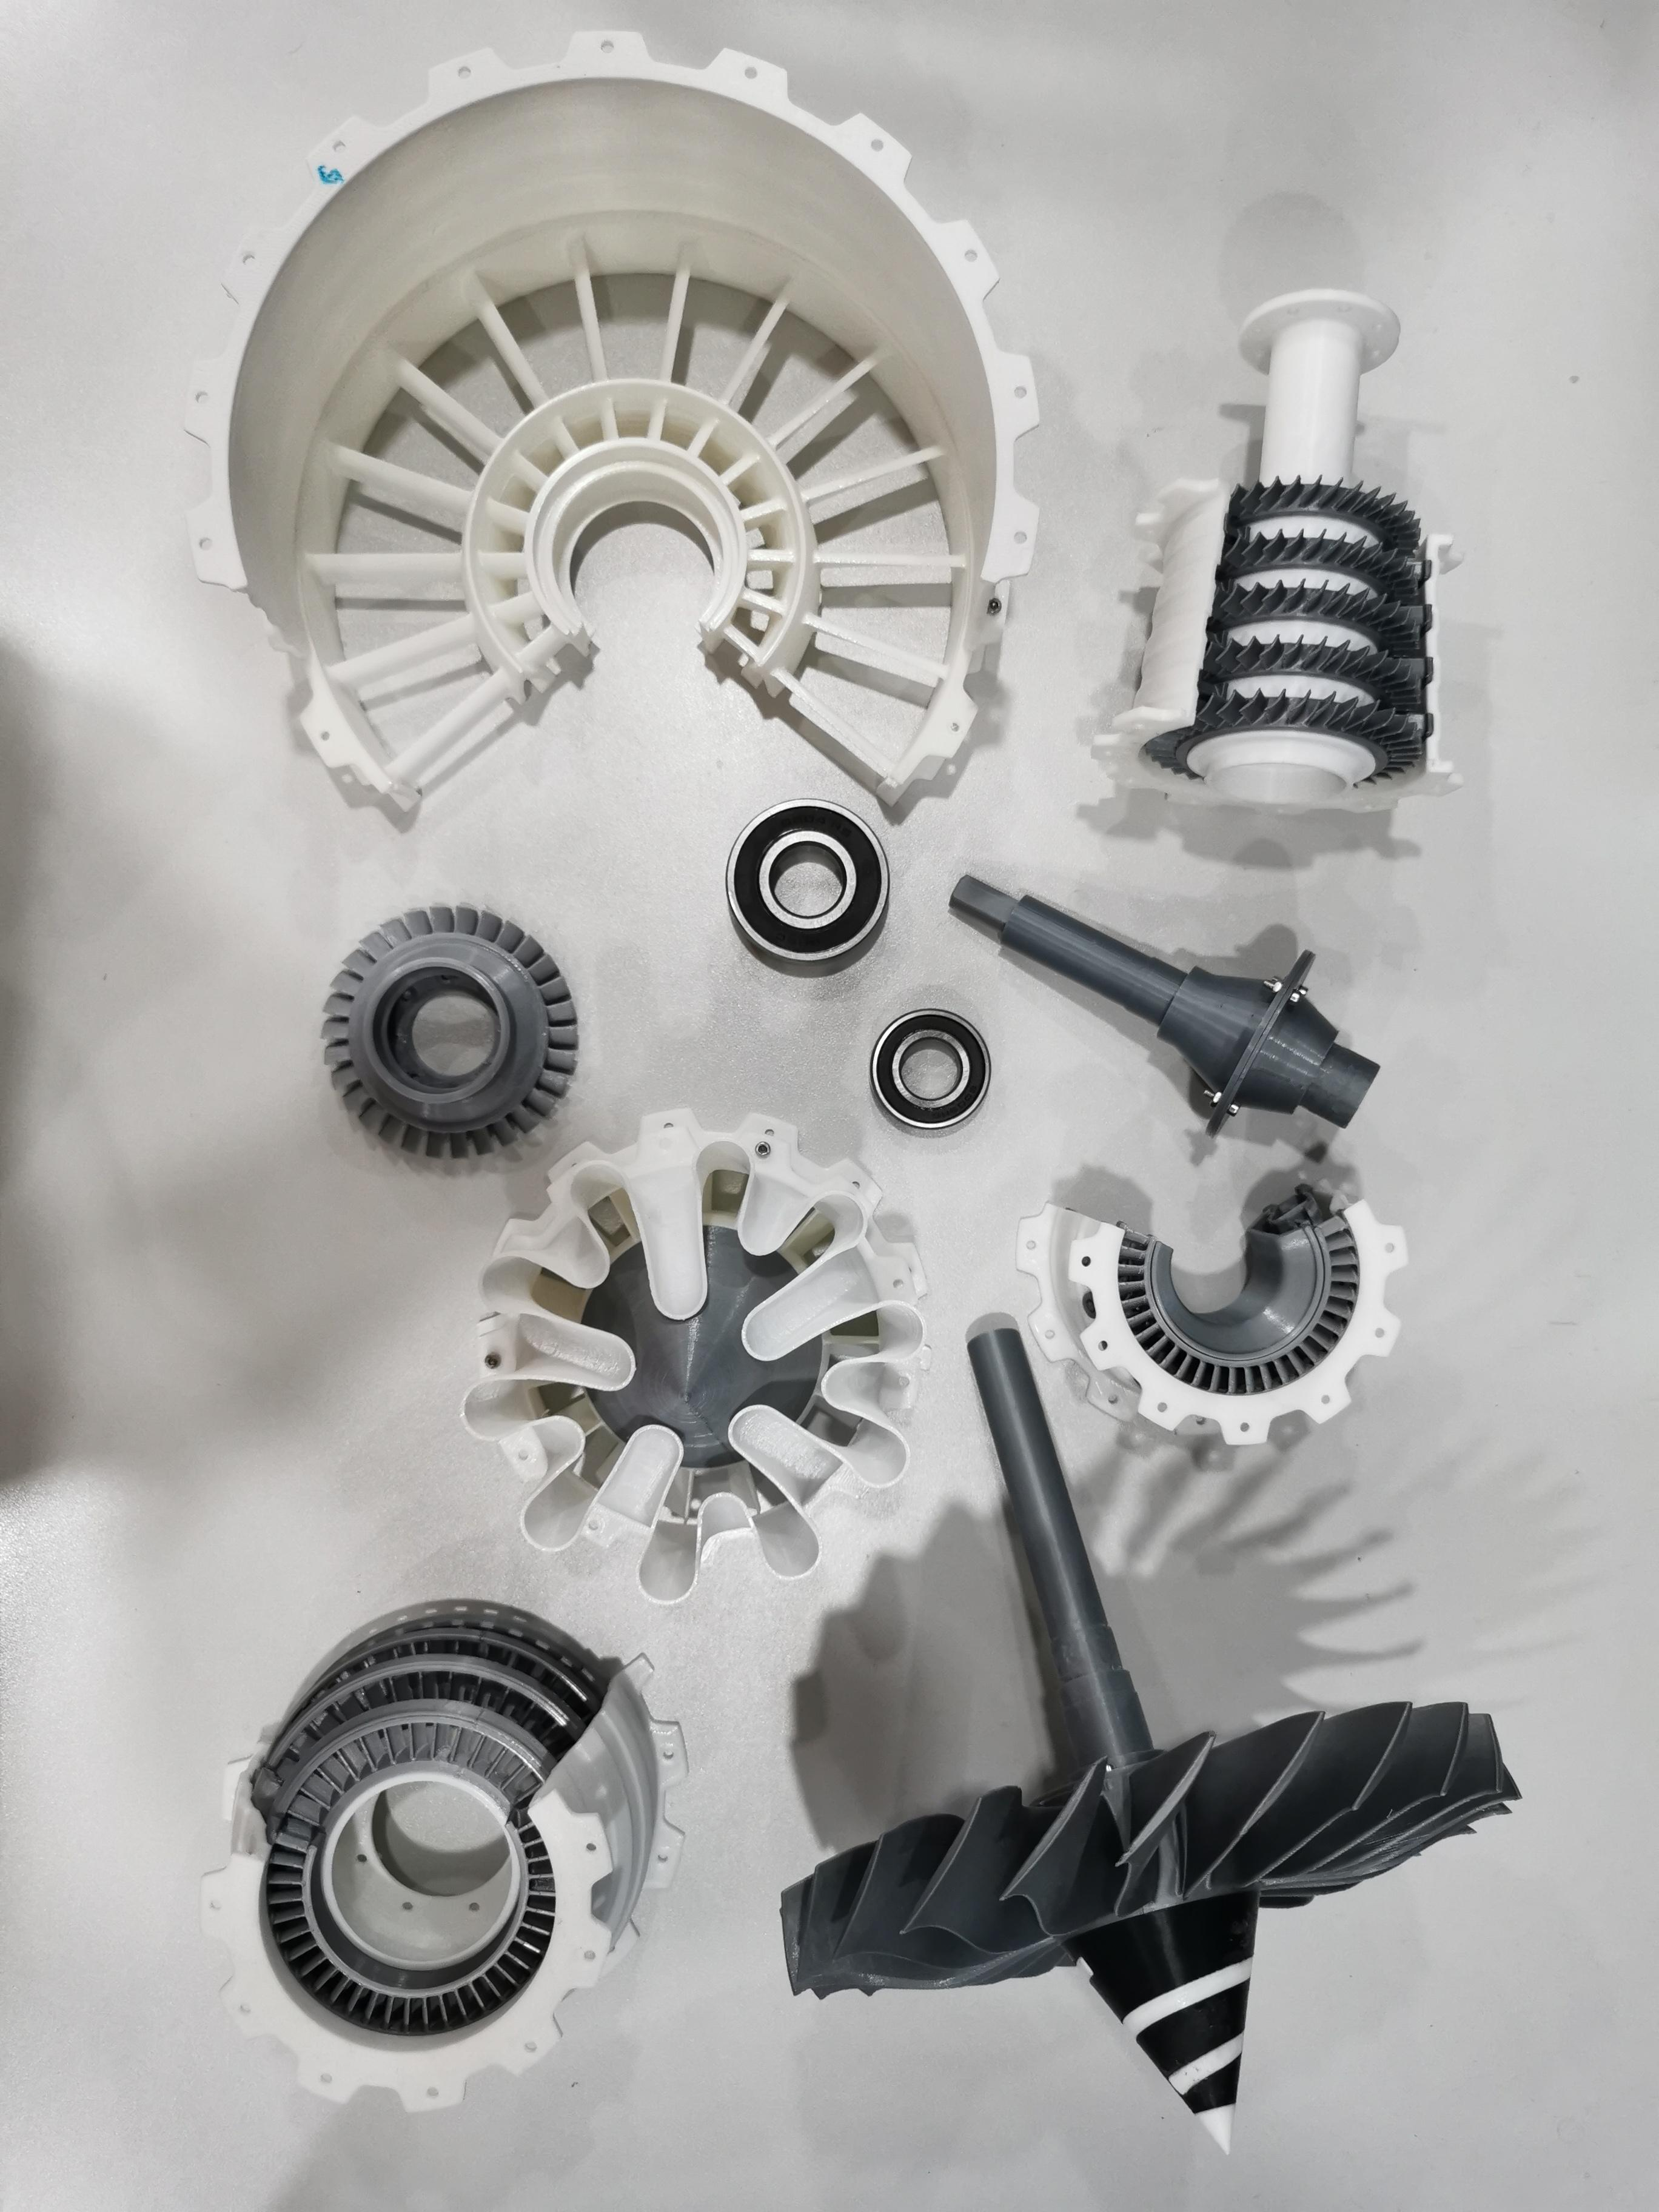Bearing-6003: (856, 988, 1011, 1150)
Bearing-6204: (697, 786, 908, 984)
Combustion Section: (995, 1174, 1419, 1477)
Fan Casing and Support: (164, 14, 1056, 829)
Fan and Low Pressure Shaft: (770, 1315, 1527, 2163)
HPT Section: (296, 892, 599, 1172)
High Pressure Spool: (1068, 270, 1500, 824)
LPT Section: (181, 1583, 704, 2125)
Low Pressure Spool: (920, 852, 1422, 1157)
Nozzle Section: (460, 1101, 939, 1615)
